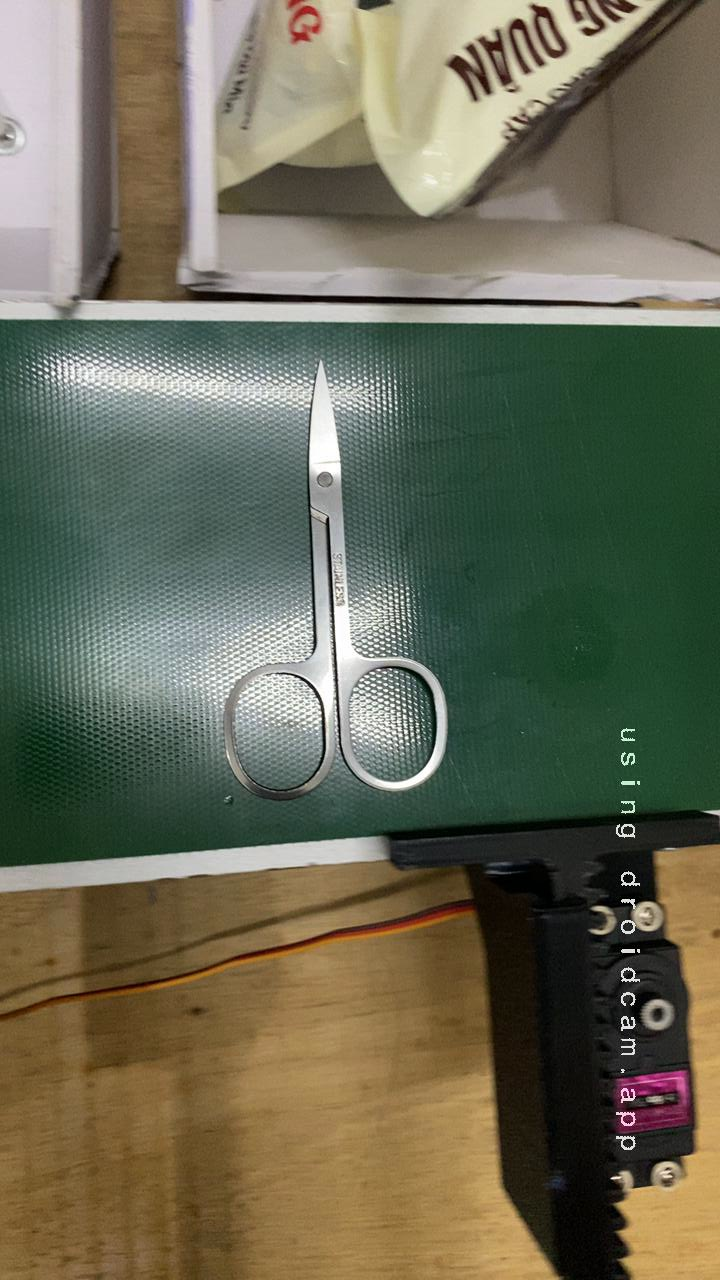scissor: (175, 371, 471, 815)
